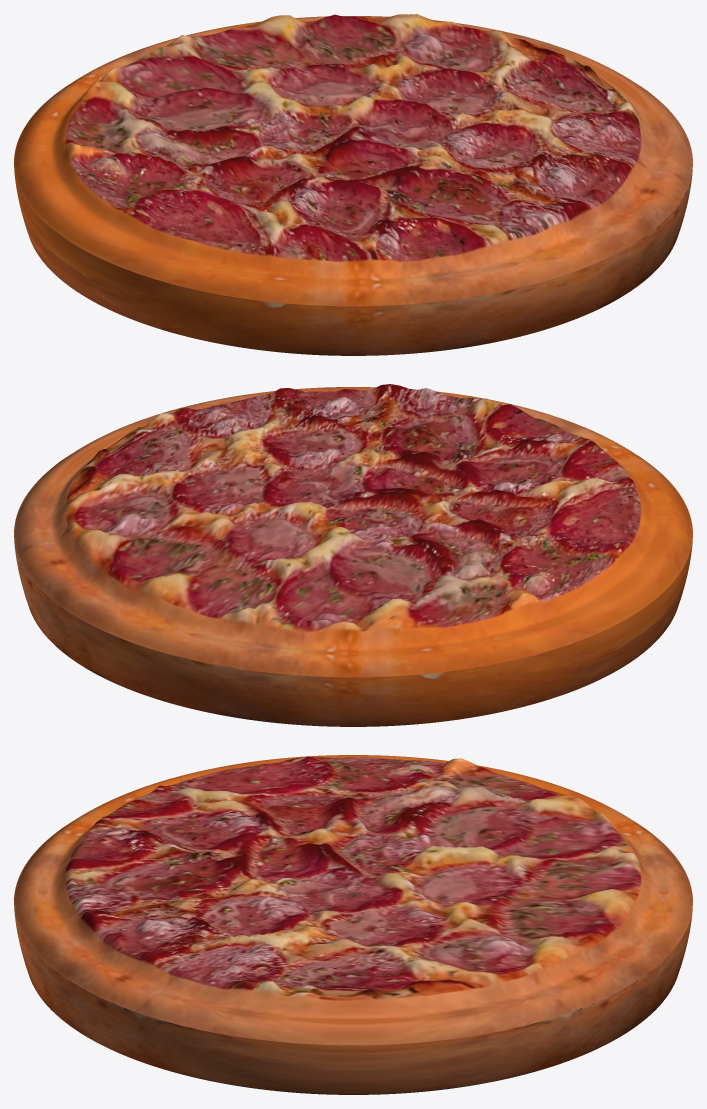
The model's file is salame.glb.
3 renders of one model, top to bottom at view 1: azimuth 30°, elevation 25°; view 2: azimuth 150°, elevation 25°; view 3: azimuth 270°, elevation 25°, orthographic.
Parts seen in each view (by area): view 1: Salame; view 2: Salame; view 3: Salame.
Part boxes in pixels (<box>): Salame: <box>14,14,692,355</box>; Salame: <box>14,384,692,726</box>; Salame: <box>14,755,692,1094</box>.
Bounding box in the file's own units: 0.36 × 0.0548 × 0.36.
2 materials, 2 textured.
